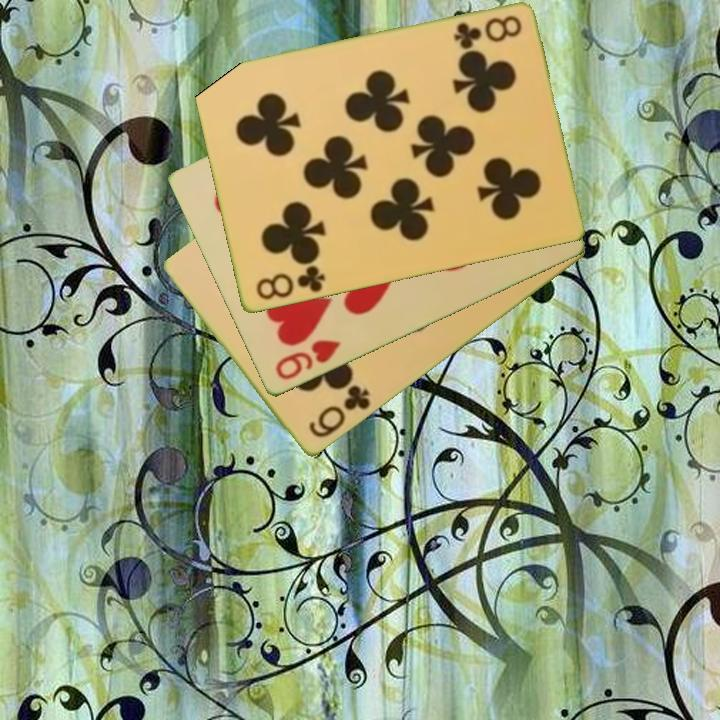6c: (305, 382, 374, 442)
8c: (252, 262, 328, 304), (449, 12, 525, 52)
9h: (271, 336, 344, 384)
